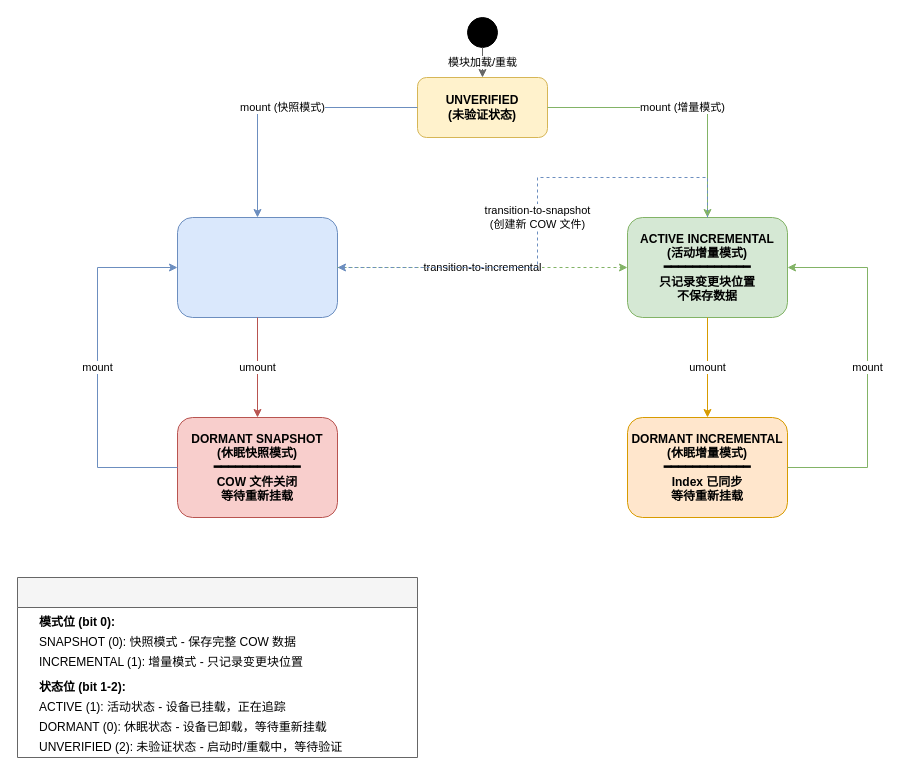
This 900x775 diagram has some shape labels left out. Here are the shapes that lost their labels. From the top down, the box of each, then its label:
(176, 216, 338, 318): ACTIVE SNAPSHOT (活动快照模式) ━━━━━━━━━━━━ 追踪写请求 保存 COW 数据
(16, 576, 418, 758): 状态定义
